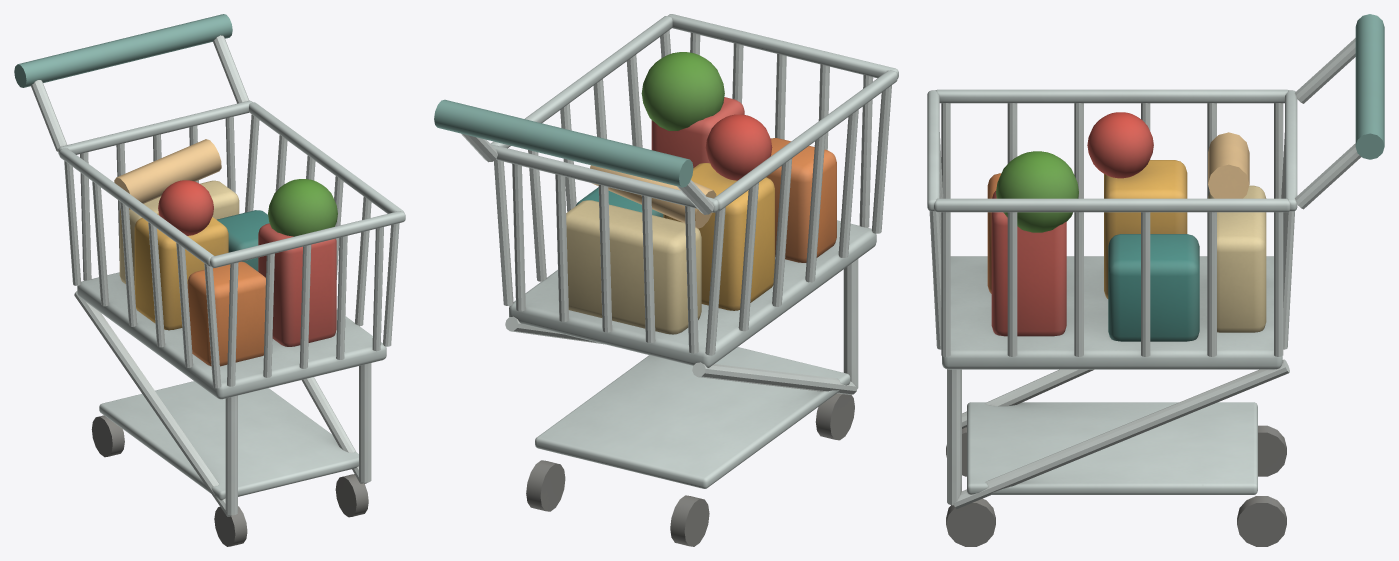
Rendered from CartFull.fbx.
3 renders of one model, left to right at view 1: azimuth 30°, elevation 25°; view 2: azimuth 150°, elevation 25°; view 3: azimuth 270°, elevation 25°, orthographic. The views are drawn at different scales.
Visible parts, largest first — view 1: CartFull; view 2: CartFull; view 3: CartFull.
Boxes of the visible parts, x1,y1,x2,y2 form: CartFull: (14,14,405,546); CartFull: (434,14,898,546); CartFull: (927,14,1384,546).
Bounding box in the file's own units: 68 × 115 × 110.
